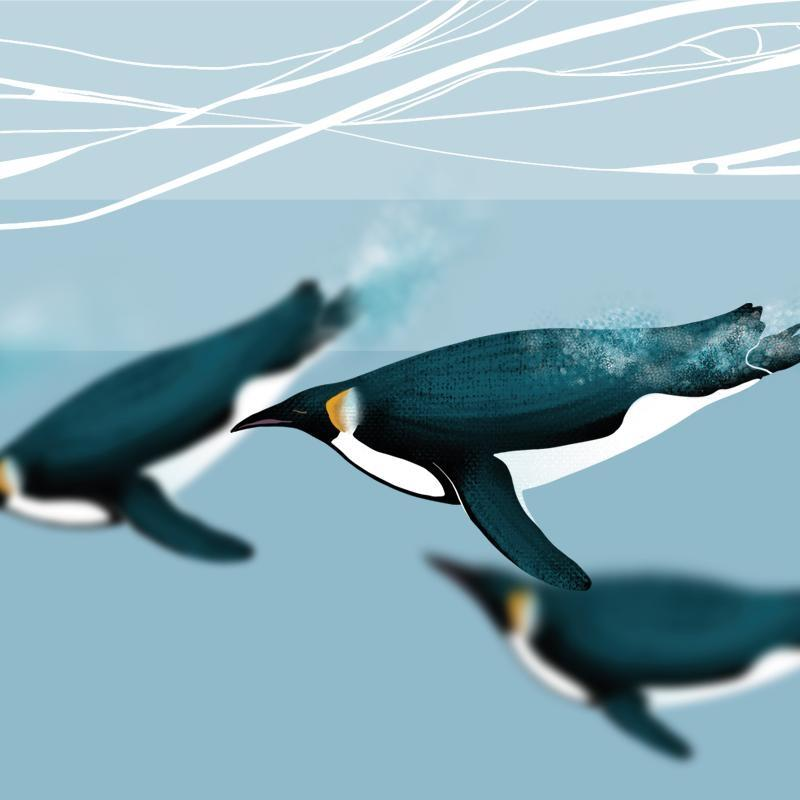Penguin: (229, 303, 799, 589), (0, 281, 357, 560), (428, 556, 798, 759)
